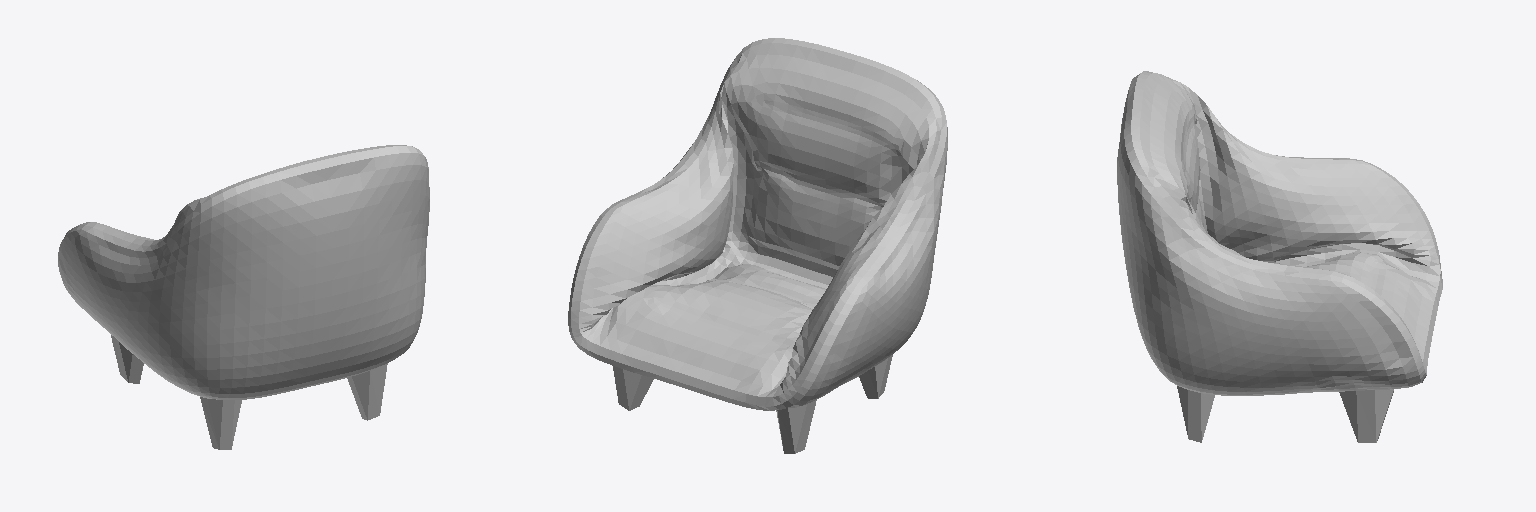
The model's file is seat.obj.
The picture shows the model from 3 angles: view 1: azimuth 30°, elevation 25°; view 2: azimuth 150°, elevation 25°; view 3: azimuth 270°, elevation 25°; orthographic projection.
Visible parts, largest first — view 1: Sessel; view 2: Sessel; view 3: Sessel.
Boxes of the visible parts, box(x1,y1,x2,y2) form: Sessel: box(58, 145, 429, 449); Sessel: box(568, 38, 947, 453); Sessel: box(1117, 71, 1442, 442).
Size of the model in its own units: 0.6427 by 0.6602 by 0.6441.